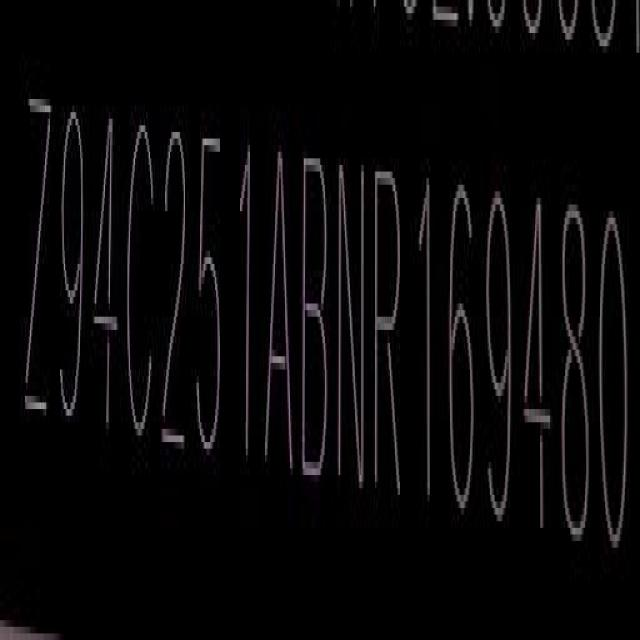0: (597, 202, 632, 560)
1: (418, 171, 437, 513), (234, 140, 253, 477)
2: (160, 122, 190, 457)
4: (518, 178, 553, 528), (92, 95, 120, 432)
5: (195, 134, 223, 445)
6: (446, 174, 478, 508)
8: (560, 193, 592, 547)
9: (58, 95, 86, 430), (486, 181, 513, 520)
A: (264, 156, 296, 476)
B: (300, 144, 330, 494)
C: (125, 100, 159, 460)
N: (336, 156, 368, 484)
R: (372, 164, 404, 496)
Z: (22, 76, 53, 444)
